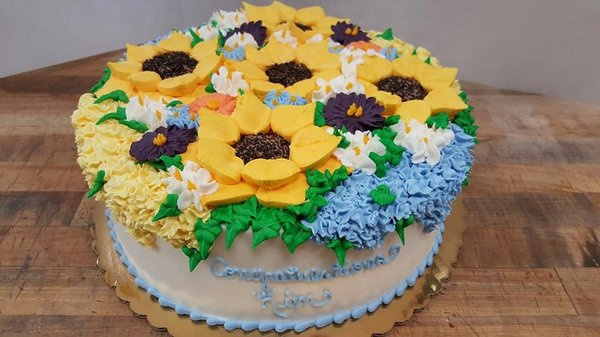pasta: (288, 124, 342, 171)
